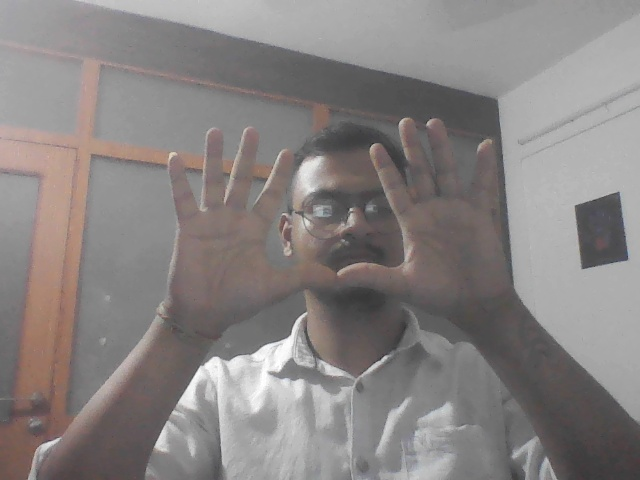Cheers: (151, 109, 528, 355)
